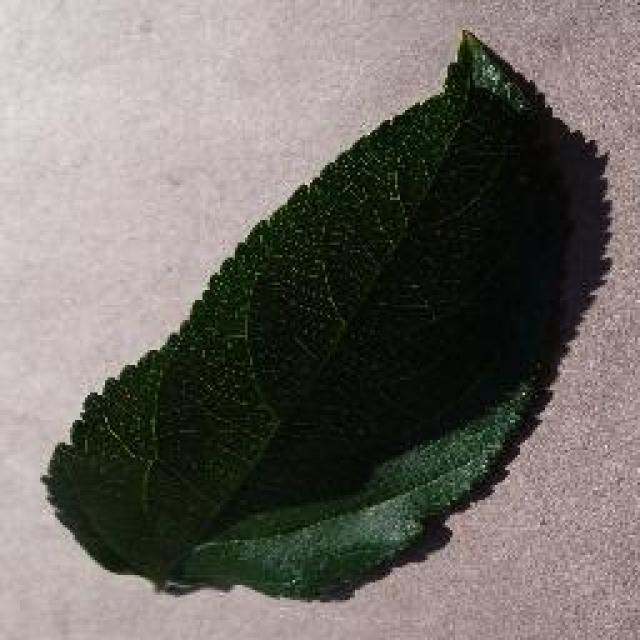apple healthy: (40, 25, 612, 603)
